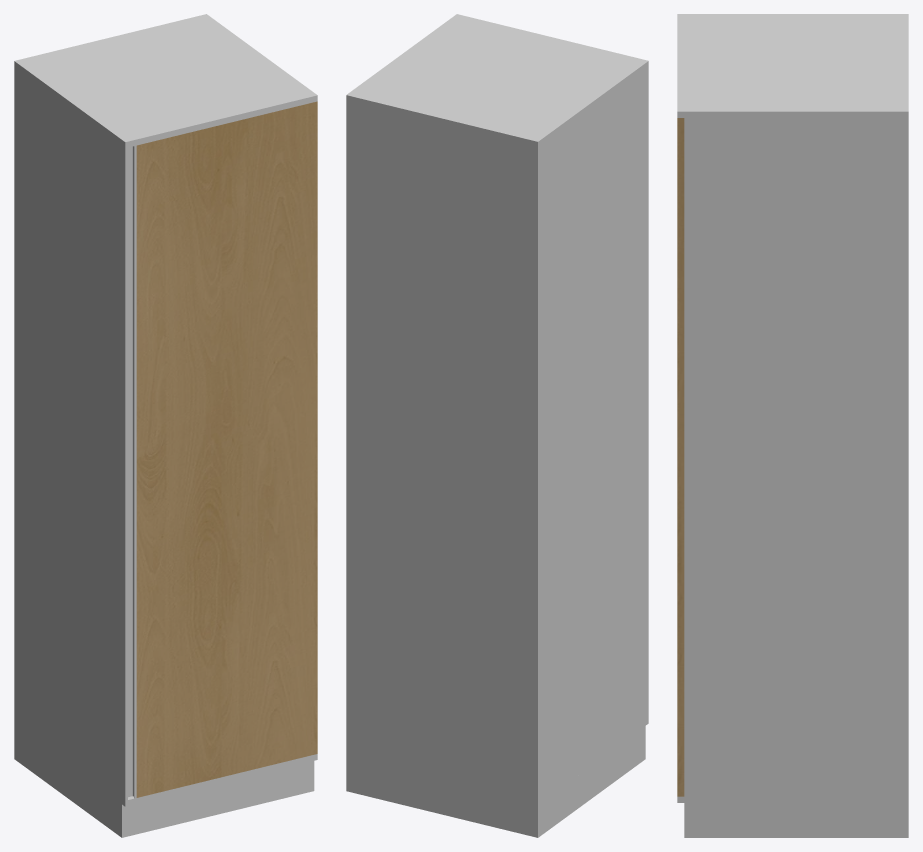
Rendered from tall-600.glb.
The picture shows the model from 3 angles, left to right: view 1: azimuth 30°, elevation 25°; view 2: azimuth 150°, elevation 25°; view 3: azimuth 270°, elevation 25°; orthographic projection. The views are drawn at different scales.
Parts seen in each view (by area): view 1: part_group (×8); view 2: part_group (×7); view 3: part_group (×6).
Boxes of the visible parts, box(x1,y1,x2,y2) form: part_group (×8): box(14, 14, 317, 837); part_group (×7): box(346, 14, 648, 837); part_group (×6): box(677, 14, 908, 837).
Size of the model in its own units: 0.6 by 2.08 by 0.6.
2 materials, 1 textured.
